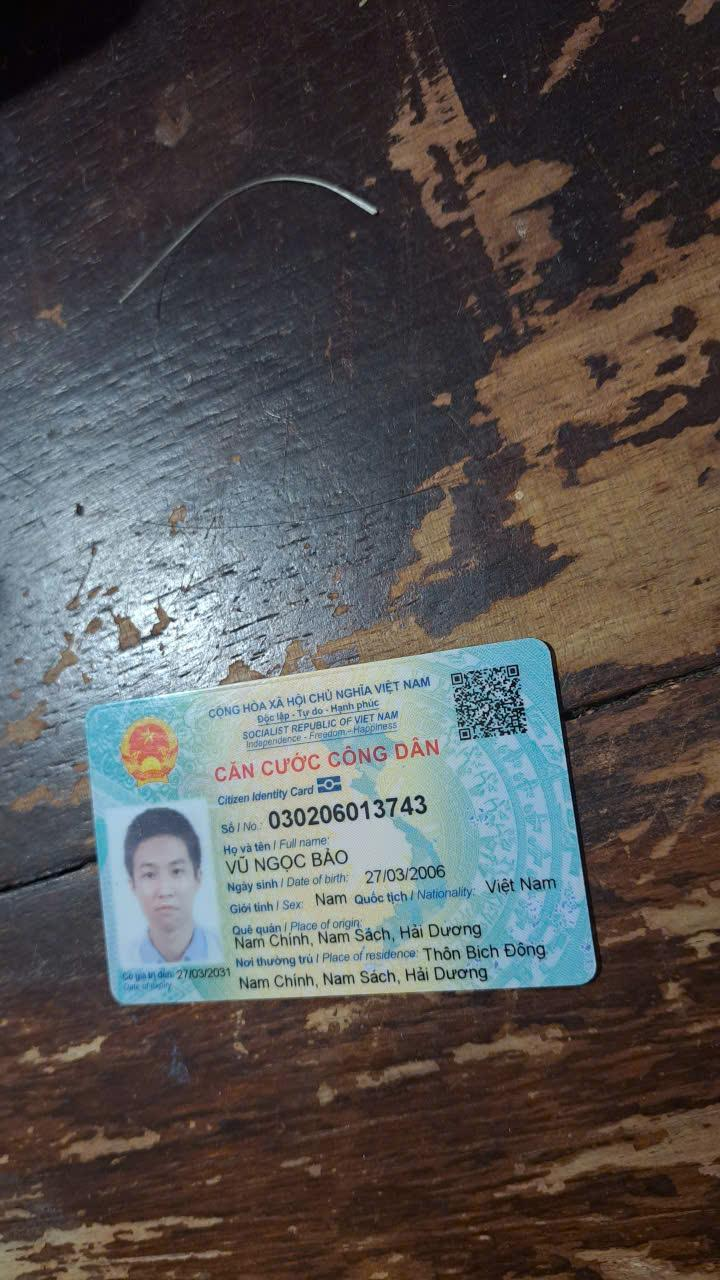cccd: (70, 623, 612, 1047)
